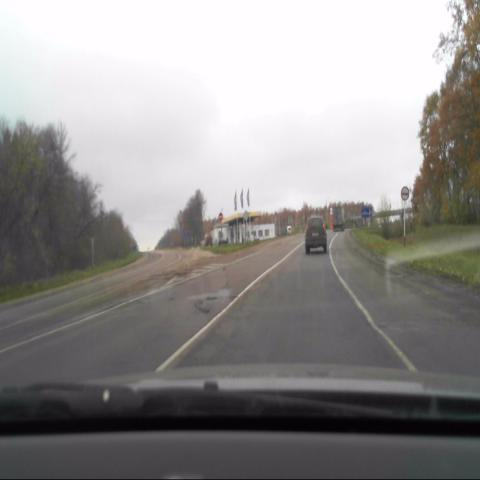3_20: (400, 186, 409, 202)
